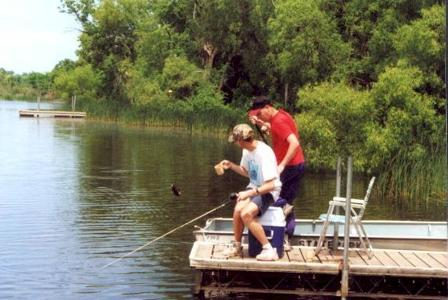person: (222, 123, 284, 262)
